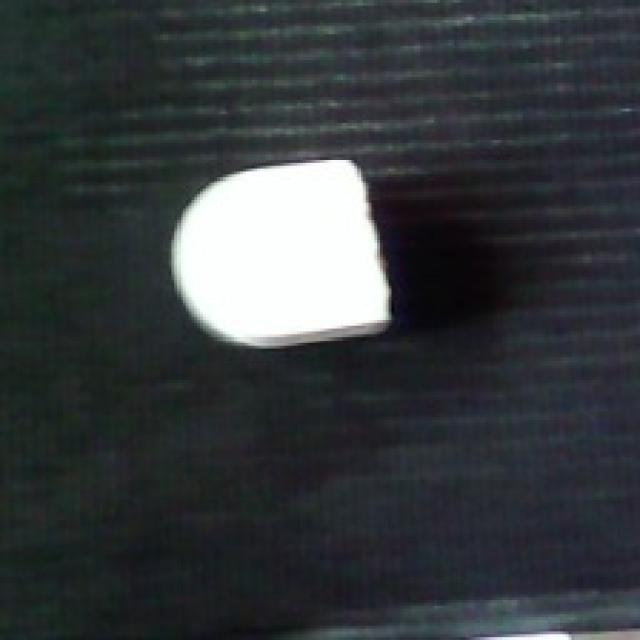defected: (160, 152, 400, 352)
